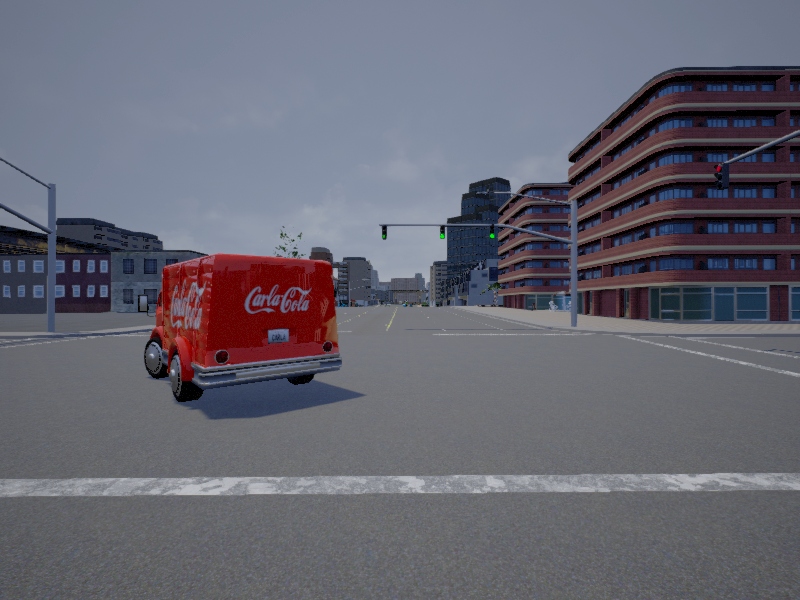Benign: (142, 256, 344, 402)
